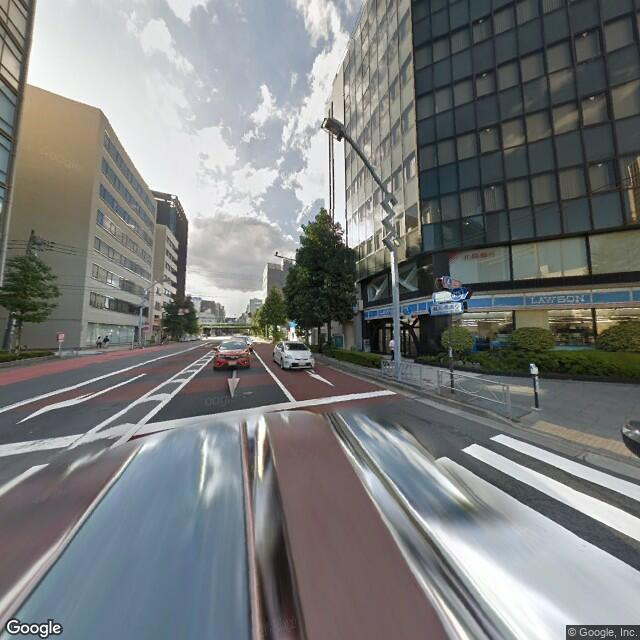lawson: (366, 282, 637, 323)
